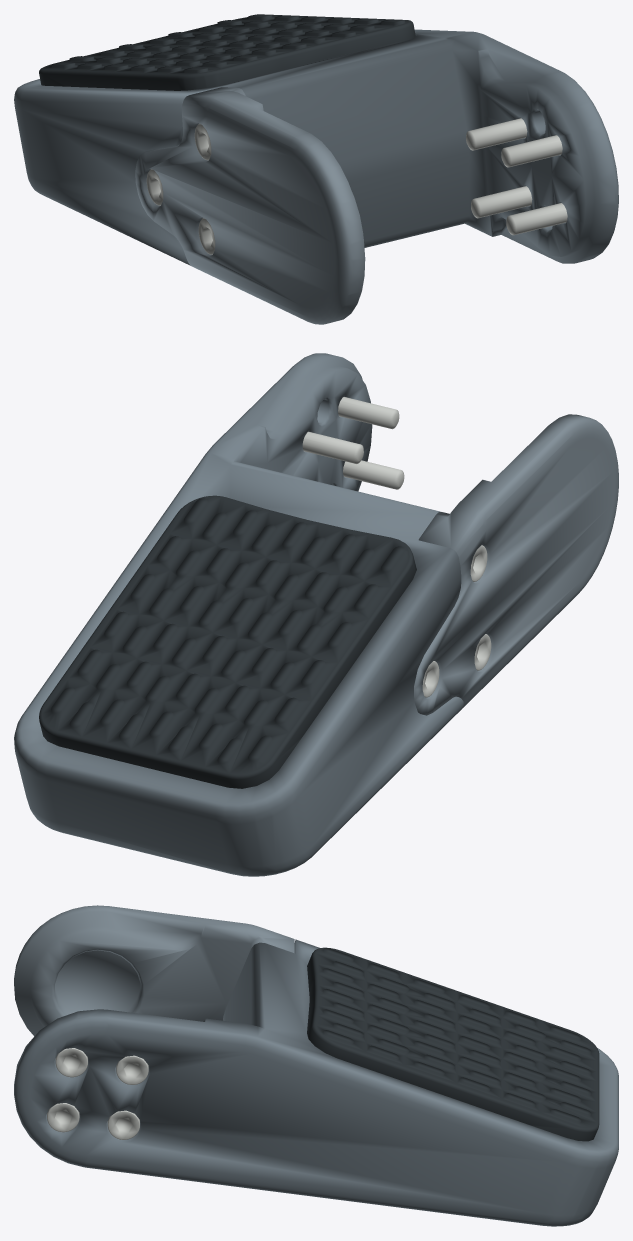
3 renders of one model, top to bottom at view 1: azimuth 30°, elevation 25°; view 2: azimuth 150°, elevation 25°; view 3: azimuth 270°, elevation 25°, orthographic. The views are drawn at different scales.
Parts seen in each view (by area): view 1: shell_0, cover_0, pad_0, fastener_0; view 2: shell_0, pad_0, cover_0, fastener_0; view 3: shell_0, pad_0, cover_0, fastener_0.
Boxes of the visible parts, <box> form: shell_0: <box>14,29,618,265</box>; cover_0: <box>135,87,365,324</box>; pad_0: <box>39,14,415,90</box>; fastener_0: <box>146,118,567,254</box>; shell_0: <box>14,353,463,876</box>; pad_0: <box>39,495,416,788</box>; cover_0: <box>414,414,618,715</box>; fastener_0: <box>302,397,491,697</box>; shell_0: <box>14,939,618,1226</box>; pad_0: <box>307,947,599,1141</box>; cover_0: <box>14,905,294,1036</box>; fastener_0: <box>47,1048,148,1139</box>.
Size of the model in its own units: 0.0255 by 0.0219 by 0.0559.
